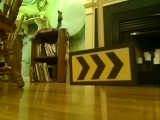right: (71, 47, 133, 82)
